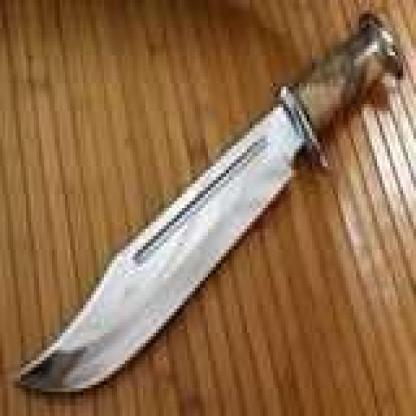Knife: (13, 10, 416, 416)
